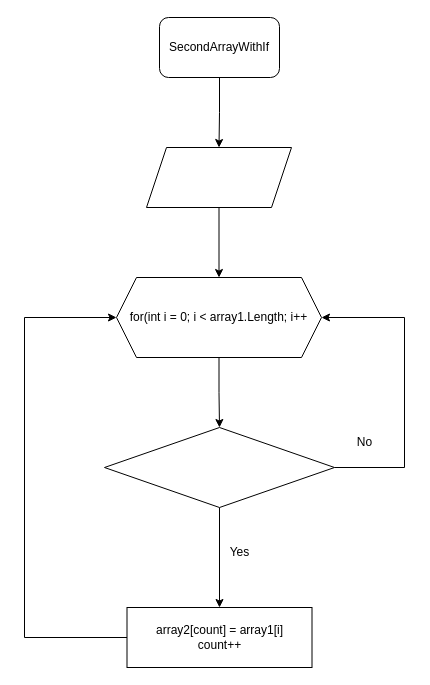
Image size: 430x685. Some labels were removed from this diagram. The centre of each missing label's shape, as x and y in pixels:
if (array1[i].Length <= 3: (219,467)
string[] array1 string[] array2 int count = 0: (219,177)
